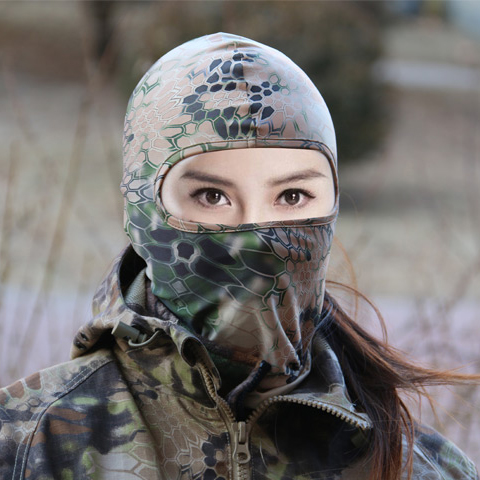face_mask: (156, 122, 332, 336)
